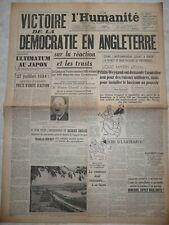paper: (1, 4, 169, 224)
